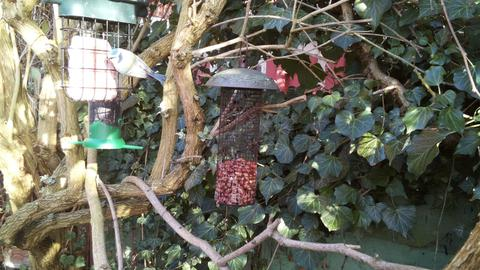blue tit: (106, 48, 167, 84)
